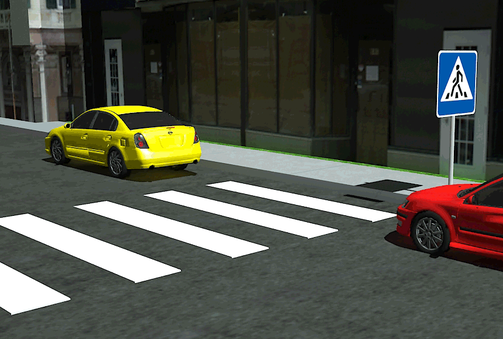Car: (43, 104, 206, 178), (391, 173, 503, 266)
CrossSign: (431, 48, 480, 119)
Crosswalk: (10, 185, 387, 283)
